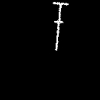double_crochet: (53, 2, 67, 49)
